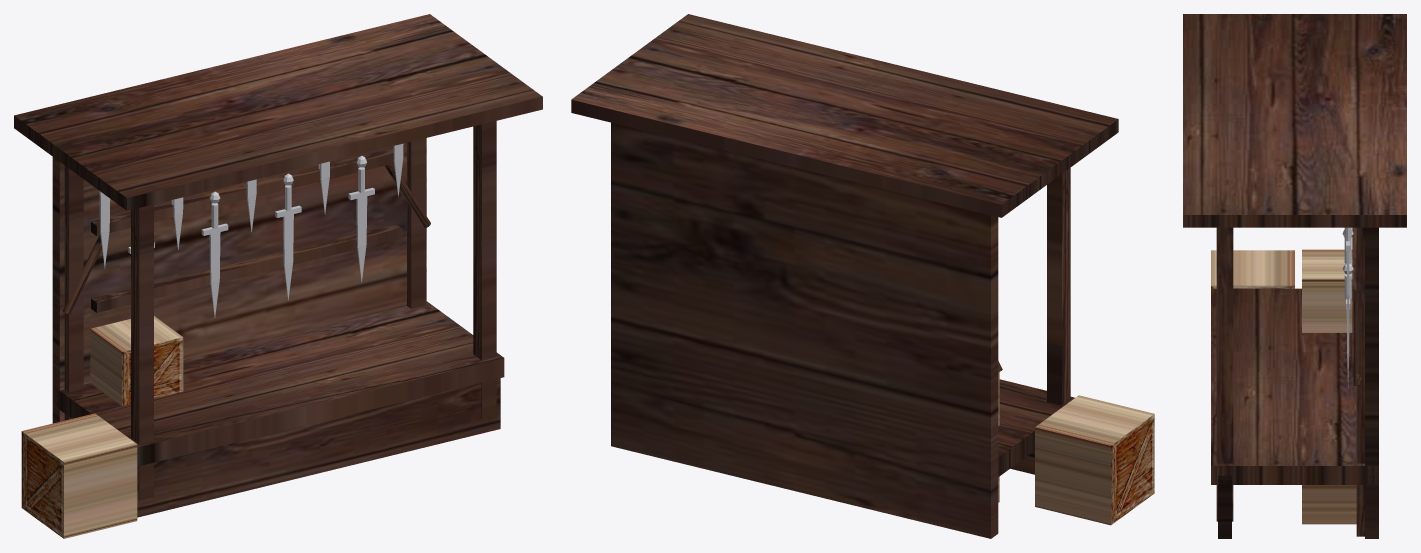
File: weapons_merchant_stall.glb
3 renders of one model, left to right at view 1: azimuth 30°, elevation 25°; view 2: azimuth 150°, elevation 25°; view 3: azimuth 270°, elevation 25°, orthographic. The views are drawn at different scales.
Parts seen in each view (by area): view 1: Stall_Roof-col, Stall_BackWall-col, Stall_Counter-col, Stall_FrontPanel-col, Crate_Display-col, Stall_Post_1-col, Stall_Post_0-col, Crate_2-col, WeaponRack_1.2-col, Stall_Post_2-col, WeaponRack_1.8-col, Stall_Post_3-col (+4 smaller); view 2: Stall_BackWall-col, Stall_Roof-col, Crate_Display-col, Stall_Counter-col, Stall_Post_0-col; view 3: Stall_Roof-col, Stall_Counter-col, Stall_Post_1-col, Stall_BackWall-col, Crate_2-col, Crate_Display-col, Stall_Post_3-col, Crate_1-col, Stall_FrontPanel-col, Sword_8, WallAxe_1_Handle, Sword_4 (+1 smaller).
Boxes of the visible parts, bbox=[...] form: Stall_Roof-col: bbox=[14, 14, 542, 210]; Stall_BackWall-col: bbox=[52, 138, 426, 423]; Stall_Counter-col: bbox=[53, 301, 504, 466]; Stall_FrontPanel-col: bbox=[137, 378, 500, 517]; Crate_Display-col: bbox=[21, 413, 137, 538]; Stall_Post_1-col: bbox=[473, 121, 496, 418]; Stall_Post_0-col: bbox=[131, 204, 153, 500]; Crate_2-col: bbox=[90, 316, 183, 406]; WeaponRack_1.2-col: bbox=[91, 224, 402, 312]; Stall_Post_2-col: bbox=[64, 165, 83, 420]; WeaponRack_1.8-col: bbox=[91, 148, 393, 235]; Stall_Post_3-col: bbox=[407, 138, 425, 308]; Stall_BackWall-col: bbox=[611, 122, 998, 538]; Stall_Roof-col: bbox=[571, 14, 1118, 217]; Crate_Display-col: bbox=[1035, 395, 1154, 525]; Stall_Counter-col: bbox=[611, 370, 1074, 481]; Stall_Post_0-col: bbox=[1047, 168, 1070, 405]; Stall_Roof-col: bbox=[1183, 14, 1406, 227]; Stall_Counter-col: bbox=[1211, 288, 1378, 484]; Stall_Post_1-col: bbox=[1216, 227, 1233, 521]; Stall_BackWall-col: bbox=[1365, 227, 1378, 538]; Crate_2-col: bbox=[1302, 249, 1352, 332]; Crate_Display-col: bbox=[1211, 250, 1294, 288]; Stall_Post_3-col: bbox=[1356, 227, 1364, 536]; Crate_1-col: bbox=[1302, 485, 1356, 524]; Stall_FrontPanel-col: bbox=[1218, 475, 1231, 538]; Sword_8: bbox=[1342, 263, 1353, 388]; WallAxe_1_Handle: bbox=[1353, 301, 1361, 385]; Sword_4: bbox=[1344, 227, 1351, 329].
Size of the model in its own units: 3.8 by 2.65 by 1.6.
Materials: 3 (2 with a texture image).
